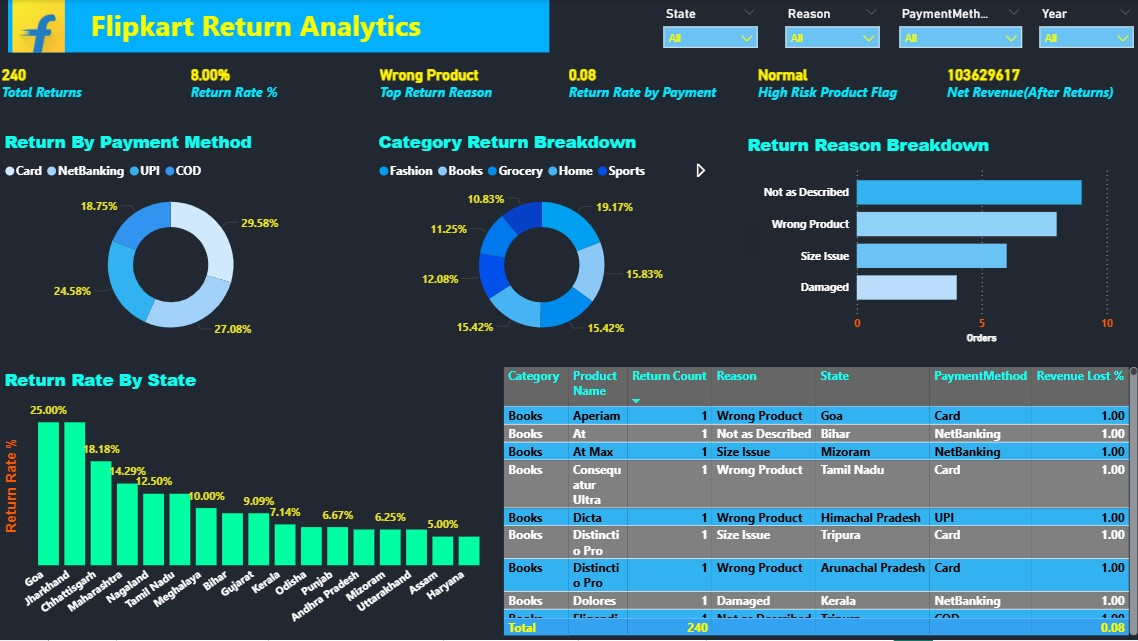

What the dashboard file says about the page in this screenshot:
{"tool":"powerbi","page":{"name":"Return analytics","canvas":[1280,720],"ordinal":4},"visuals":[{"type":"textbox","box":[8.9,0,608.9,58.7],"z":0},{"type":"multiRowCard","fields":{"Values":["returns.Total Returns","returns.Return Rate %","returns.Top Return Reason","returns.Return Rate by Payment","returns.High Risk Product Flag","returns.Net Revenue(After Returns)"]},"box":[0,74.3,1280,59.8],"z":1000},{"type":"image","box":[0,0,86.2,58.7],"z":2000},{"type":"tableEx","fields":{"Values":["products.Category","products.ProductName","returns.Return Count","returns.Reason","customers.State","orders.PaymentMethod","returns.Revenue Lost %"]},"box":[565.8,412.8,714.2,307],"z":3000},{"type":"barChart","title":"Return Reason Breakdown","fields":{"Category":["returns.Reason"],"Y":["returns.Return Count"]},"box":[835.7,148.4,421.1,242.1],"z":4000},{"type":"donutChart","title":"Return By Payment Method ","fields":{"Category":["orders.PaymentMethod"],"Y":["returns.Total Returns"]},"box":[0,144.7,384,249.5],"z":5000},{"type":"columnChart","title":"Return Rate By State","fields":{"Category":["customers.State"],"Y":["returns.Return Rate %"]},"box":[0,412.8,556.5,307],"z":6000},{"type":"donutChart","title":"Category Return Breakdown ","fields":{"Y":["returns.Total Returns"],"Category":["products.Category"]},"box":[421.1,144.7,377.5,249.5],"z":7000},{"type":"slicer","fields":{"Values":["orders.OrderYear"]},"box":[1164.4,6.2,115.6,52.4],"z":8000},{"type":"slicer","fields":{"Values":["returns.Reason"]},"box":[879.1,6.2,115.6,52.4],"z":9000},{"type":"slicer","fields":{"Values":["customers.State"]},"box":[741.3,6.2,115.6,52.4],"z":10000},{"type":"slicer","fields":{"Values":["orders.PaymentMethod"]},"box":[1007.1,6.2,147.6,52.4],"z":11000}]}

Visuals, with their boxes in screenshot pixels (x1, y1, x2, y2), scaled from the page's 1280x720 canvas onto the 1138x641 screenshot:
textbox: rect(8, 0, 549, 52)
multiRowCard - returns.Total Returns x returns.Return Rate %: rect(0, 66, 1137, 119)
image: rect(0, 0, 77, 52)
tableEx - products.Category x products.ProductName: rect(503, 368, 1137, 640)
"Return Reason Breakdown" barChart: rect(743, 132, 1117, 348)
"Return By Payment Method " donutChart: rect(0, 129, 341, 351)
"Return Rate By State" columnChart: rect(0, 368, 495, 640)
"Category Return Breakdown " donutChart: rect(374, 129, 710, 351)
slicer - orders.OrderYear: rect(1035, 6, 1137, 52)
slicer - returns.Reason: rect(782, 6, 884, 52)
slicer - customers.State: rect(659, 6, 762, 52)
slicer - orders.PaymentMethod: rect(895, 6, 1027, 52)
